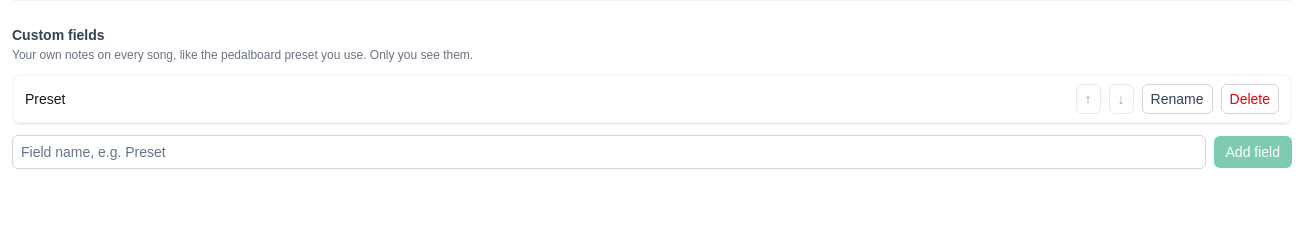
CustomFieldsSettingsSection › shows a duplicate name as the inline error under the form (ER2)
The image size is (1304, 236).
Expected: the text "Preset" is shown, 25,91 -> 66,107
Type "preset" into the field with placeholder "Field name, e.g. Preset" at (609, 152), box 12,135 -> 1206,169
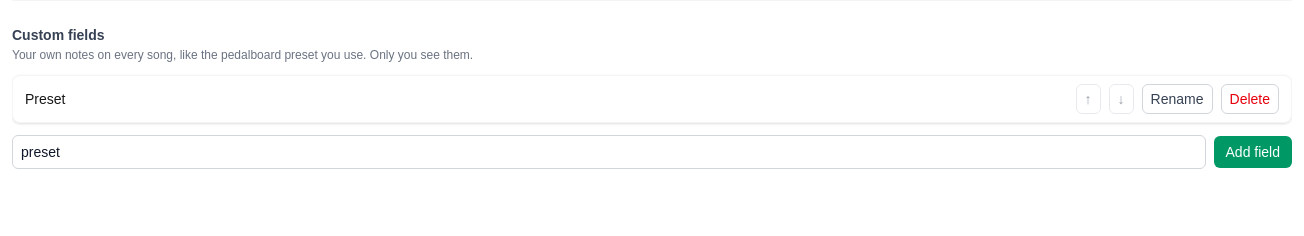
Click the button "Add field" at (1253, 152), box 1214,136 -> 1292,168
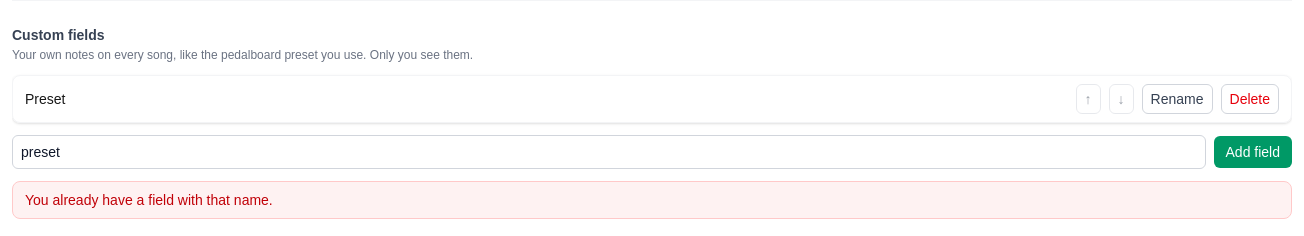
Expected: the message reads "You already have a field with that name.", 25,192 -> 273,208
